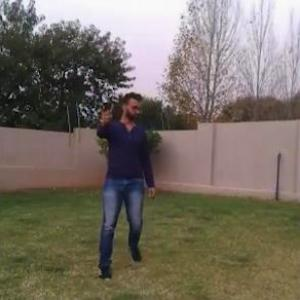takeoff-hand: (91, 94, 120, 132)
